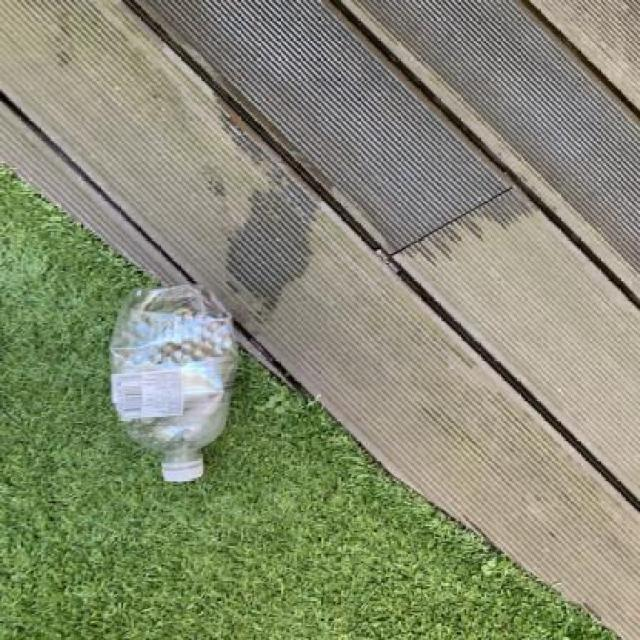trash: (106, 282, 242, 488)
